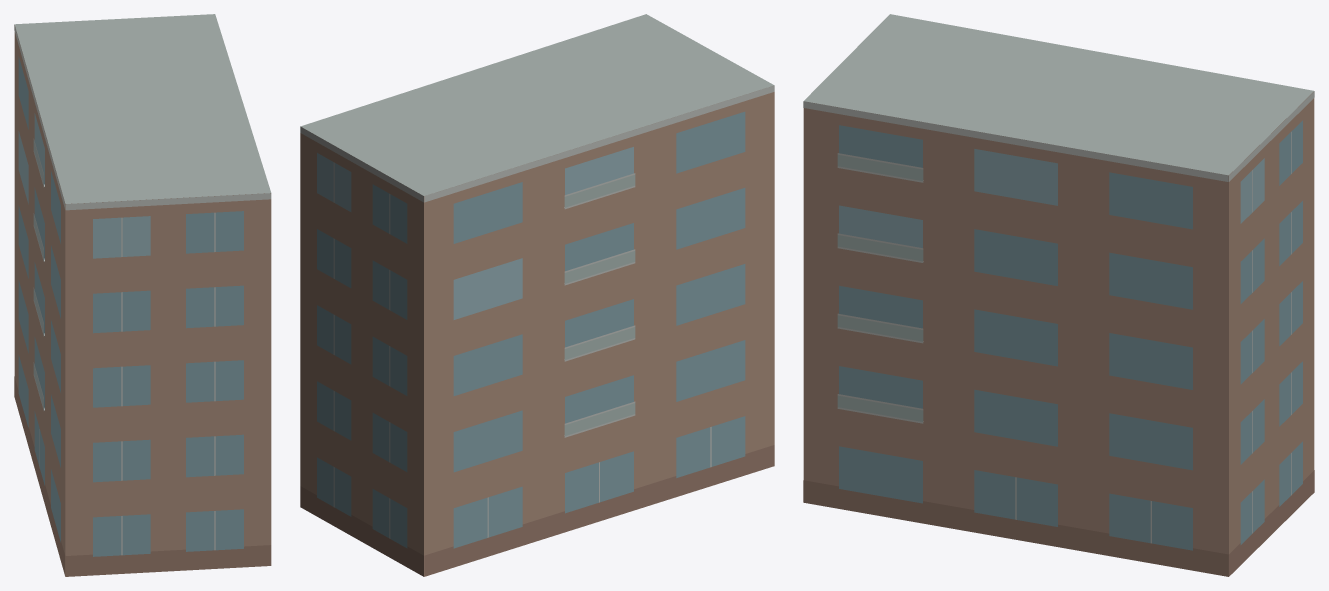
File: survey-upis-32944143.glb
The picture shows the model from 3 angles, left to right: view 1: azimuth 30°, elevation 25°; view 2: azimuth 150°, elevation 25°; view 3: azimuth 270°, elevation 25°; orthographic projection. The views are drawn at different scales.
Visible parts, largest first — view 1: survey-upis-32944143.tmp; view 2: survey-upis-32944143.tmp; view 3: survey-upis-32944143.tmp.
Part boxes in pixels (x1,y1,x2,y2): survey-upis-32944143.tmp: (14,14,271,576); survey-upis-32944143.tmp: (300,14,774,576); survey-upis-32944143.tmp: (803,14,1314,576).
Size of the model in its own units: 12.47 by 14.45 by 16.68.
